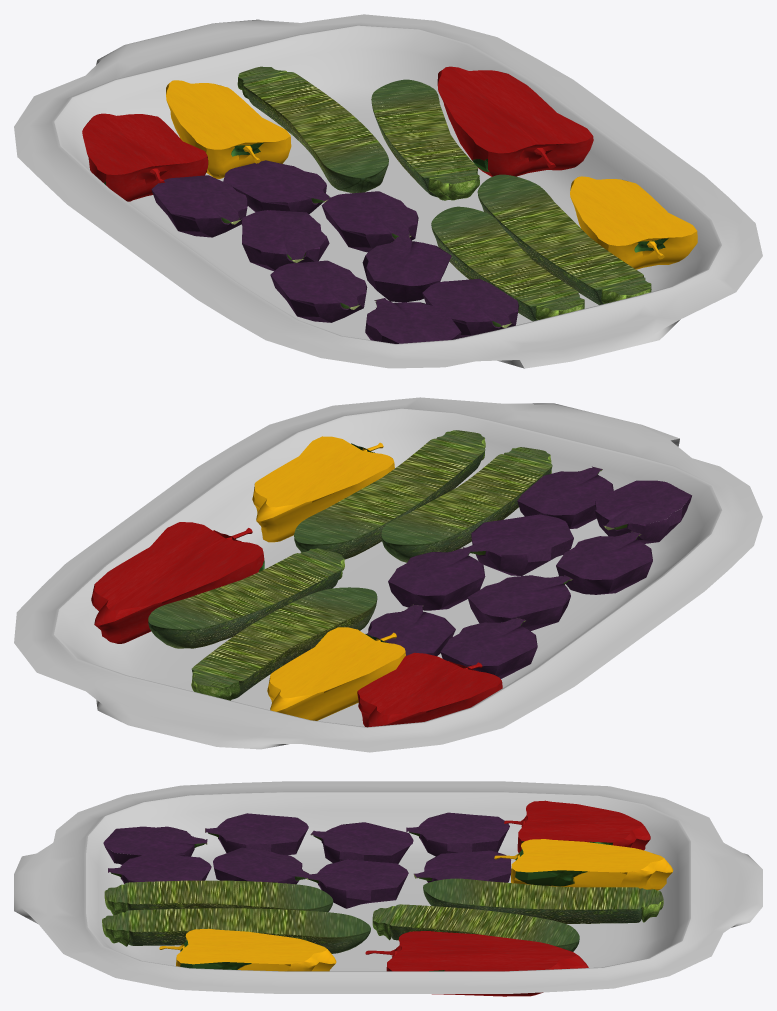
File: ripieni.fbx
3 views of the same model, one above another, from view 1: azimuth 30°, elevation 25°; view 2: azimuth 150°, elevation 25°; view 3: azimuth 270°, elevation 25° (orthographic). The views are drawn at different scales.
Visible parts, largest first — view 1: piatti_remesh, peperone_2, zucchino_1, zucchino_2, zucchino, zucchino_3, peperone, peperone_3, peperone_1, melanzana_3, melanzana_7, melanzana_5 (+5 smaller); view 2: piatti_remesh, peperone_2, zucchino_1, zucchino_2, zucchino_3, zucchino, peperone, peperone_1, peperone_3, melanzana_2, melanzana_3, melanzana_1 (+5 smaller); view 3: piatti_remesh, zucchino_1, zucchino_2, peperone_2, peperone_1, zucchino, peperone, zucchino_3, peperone_3, melanzana_4, melanzana_7, melanzana_5 (+5 smaller).
Boxes of the visible parts, bbox=[...] form: piatti_remesh: bbox=[14, 14, 762, 368]; peperone_2: bbox=[437, 66, 593, 176]; zucchino_1: bbox=[477, 174, 651, 304]; zucchino_2: bbox=[237, 66, 388, 193]; zucchino: bbox=[431, 206, 584, 321]; zucchino_3: bbox=[371, 79, 479, 200]; peperone: bbox=[570, 176, 697, 269]; peperone_3: bbox=[82, 113, 208, 201]; peperone_1: bbox=[166, 80, 291, 179]; melanzana_3: bbox=[270, 260, 367, 322]; melanzana_7: bbox=[151, 175, 247, 237]; melanzana_5: bbox=[242, 210, 329, 270]; piatti_remesh: bbox=[14, 397, 762, 752]; peperone_2: bbox=[91, 522, 264, 643]; zucchino_1: bbox=[294, 430, 485, 559]; zucchino_2: bbox=[191, 587, 377, 700]; zucchino_3: bbox=[148, 548, 344, 648]; zucchino: bbox=[381, 447, 552, 562]; peperone: bbox=[252, 436, 394, 542]; peperone_1: bbox=[267, 627, 405, 720]; peperone_3: bbox=[357, 652, 502, 727]; melanzana_2: bbox=[462, 514, 573, 575]; melanzana_3: bbox=[556, 531, 652, 594]; melanzana_1: bbox=[595, 480, 691, 543]; piatti_remesh: bbox=[14, 781, 762, 993]; zucchino_1: bbox=[102, 908, 370, 953]; zucchino_2: bbox=[423, 878, 663, 923]; peperone_2: bbox=[365, 931, 588, 996]; peperone_1: bbox=[494, 839, 673, 890]; zucchino: bbox=[104, 880, 333, 915]; peperone: bbox=[159, 928, 336, 971]; zucchino_3: bbox=[372, 904, 579, 951]; peperone_3: bbox=[504, 800, 650, 852]; melanzana_4: bbox=[305, 859, 408, 908]; melanzana_7: bbox=[406, 812, 509, 856]; melanzana_5: bbox=[310, 822, 413, 863].
Size of the model in its own units: 26.93 by 2.5 by 40.09.
